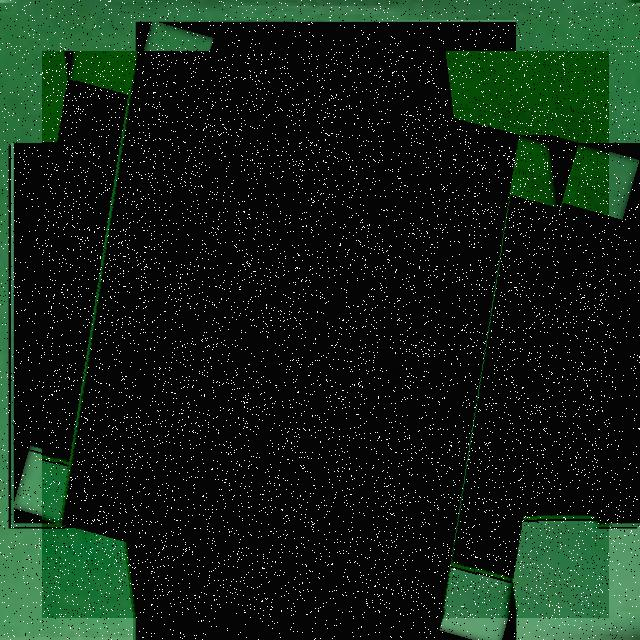dua ribu rupiah: (42, 51, 609, 618)
